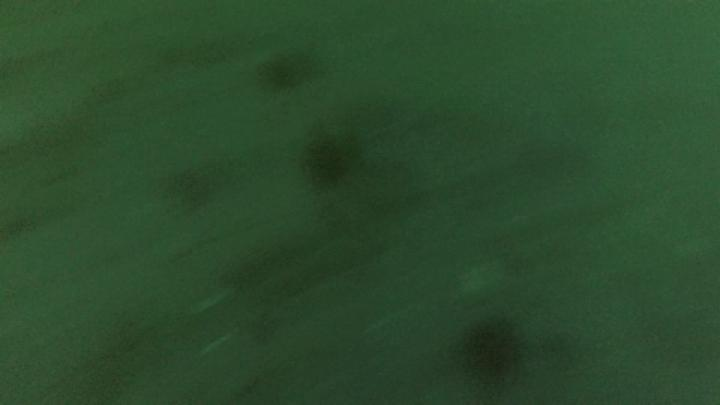echinus: (469, 309, 527, 385), (302, 133, 350, 193), (254, 48, 304, 103)
